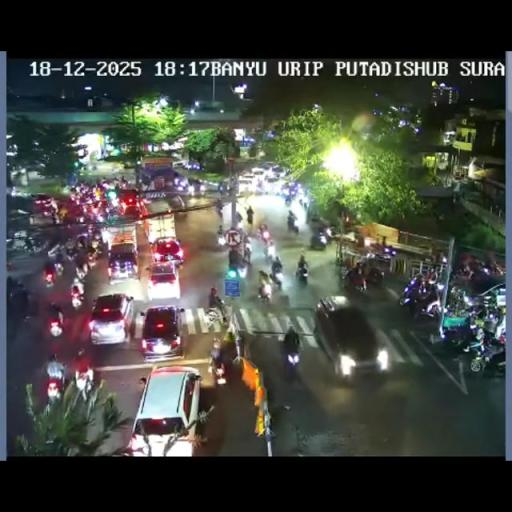Car: (127, 364, 204, 454), (312, 296, 390, 382), (138, 304, 185, 360), (87, 292, 135, 346), (146, 262, 182, 302), (106, 242, 140, 283), (150, 236, 186, 266), (117, 189, 144, 216), (33, 194, 57, 216), (263, 174, 281, 192), (237, 175, 254, 193), (269, 164, 287, 178), (251, 166, 266, 178)
Motorcycle: (220, 215, 294, 303), (398, 275, 442, 318), (280, 178, 312, 230), (466, 333, 505, 373), (437, 308, 476, 348), (44, 358, 66, 399), (74, 354, 94, 391), (446, 286, 472, 314), (282, 332, 300, 371), (342, 266, 368, 292), (208, 352, 227, 386), (12, 285, 30, 318), (44, 258, 64, 286), (47, 305, 65, 336), (451, 265, 476, 286), (365, 266, 385, 289), (295, 254, 308, 284), (258, 270, 271, 300), (26, 237, 46, 256), (209, 288, 223, 314), (264, 243, 279, 265), (70, 288, 84, 310), (74, 258, 88, 280), (234, 330, 244, 360), (257, 223, 271, 244), (103, 202, 119, 220), (423, 266, 438, 284), (269, 270, 282, 290), (488, 262, 506, 276), (432, 207, 447, 223), (382, 242, 398, 256), (242, 245, 252, 267), (322, 226, 334, 244), (72, 208, 86, 223), (174, 178, 189, 192), (286, 218, 298, 234), (86, 246, 98, 262), (216, 228, 226, 247), (437, 250, 446, 266), (254, 181, 265, 194), (216, 181, 226, 195), (50, 210, 59, 224), (452, 190, 461, 204), (298, 197, 308, 209), (215, 204, 223, 218), (236, 216, 244, 230), (198, 182, 206, 196), (343, 216, 351, 230), (246, 206, 252, 224), (187, 183, 195, 195), (120, 177, 127, 189), (285, 196, 293, 206), (6, 261, 14, 270)
